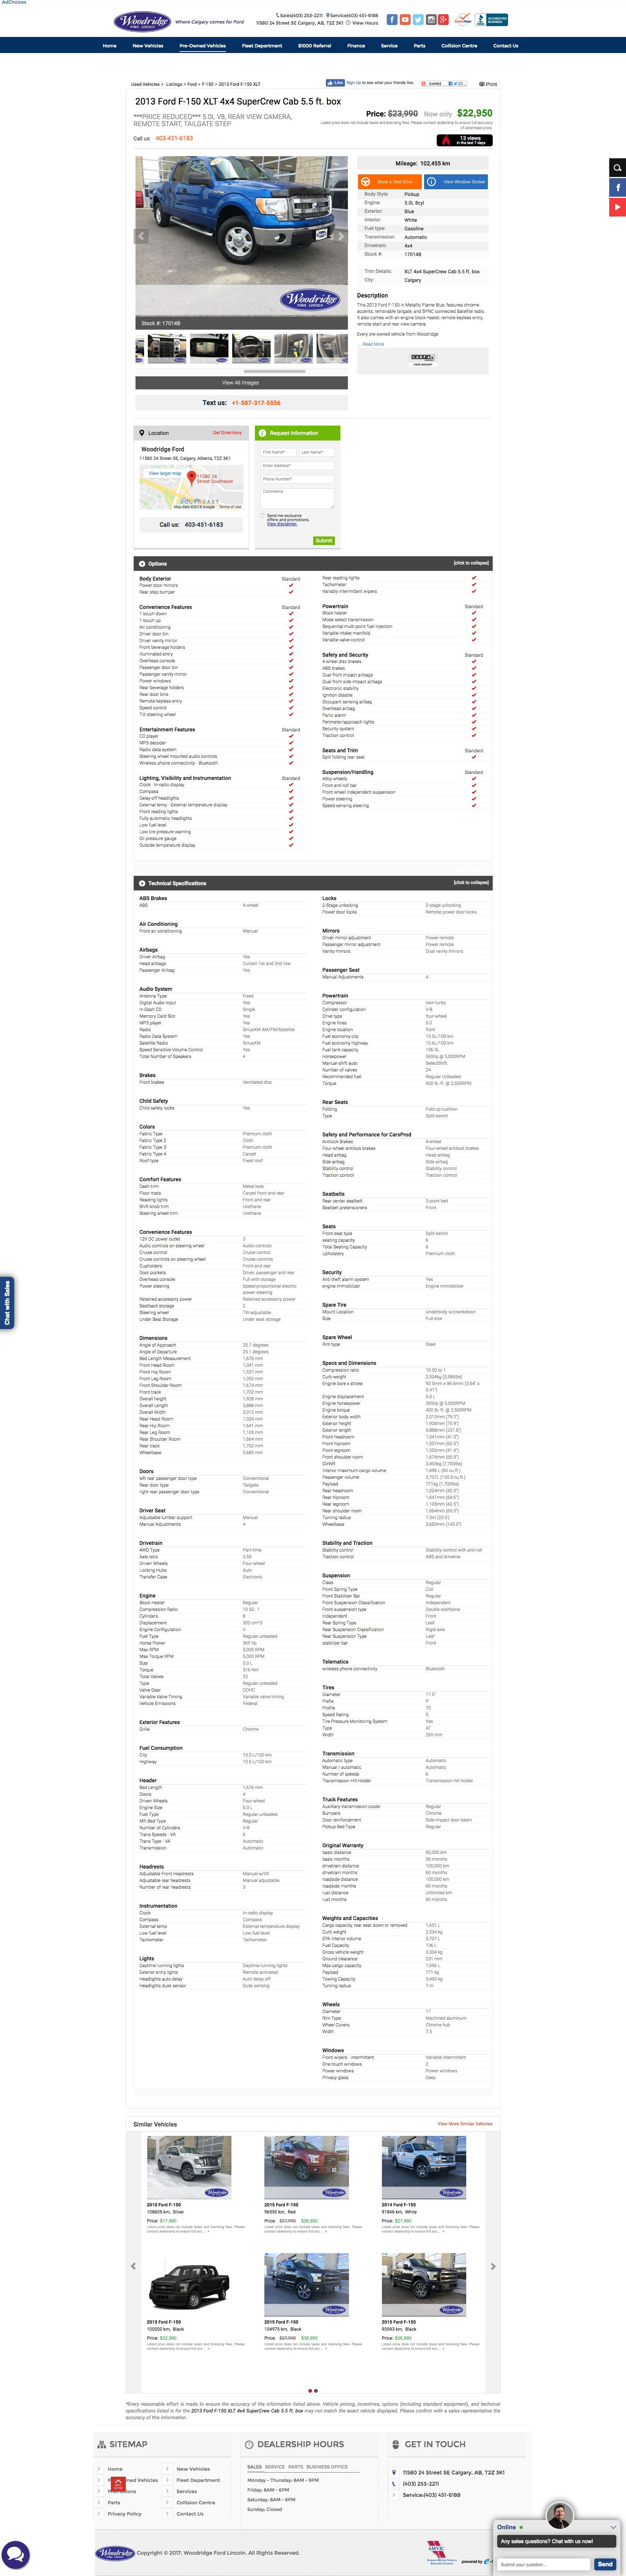car: (338, 232, 345, 242)
